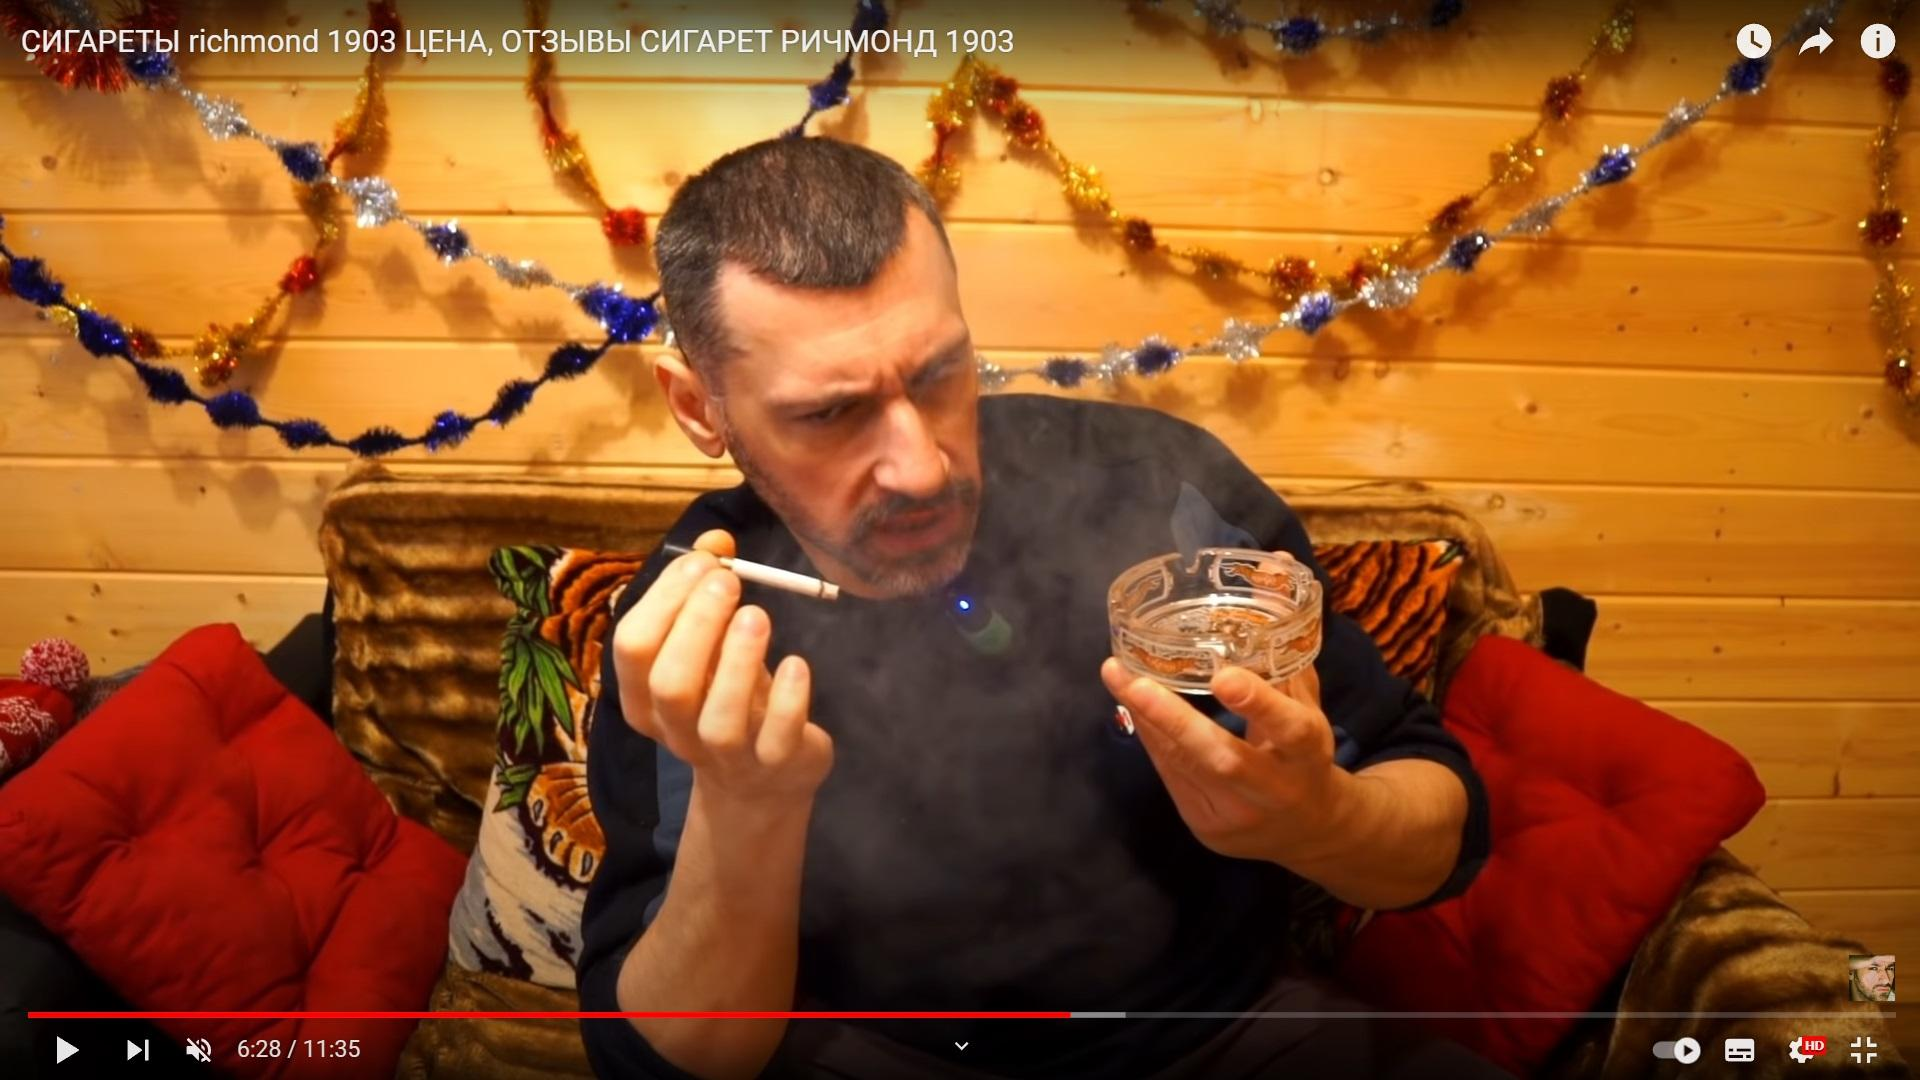cigarette: (659, 543, 841, 600)
